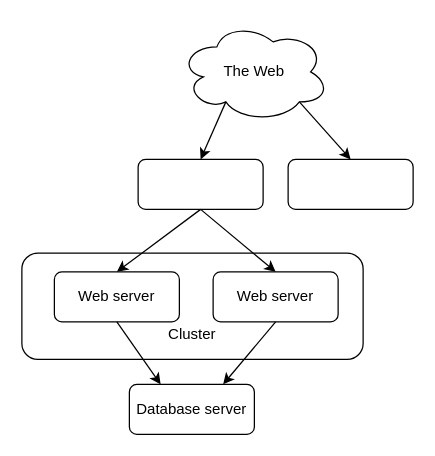
Image size: 435x456. Some labels were removed from this diagram. Here are the shapes that lost their labels. From the top down, the centre of each, then its label:
[200,183]: Load Balancer
[350,183]: Media server
